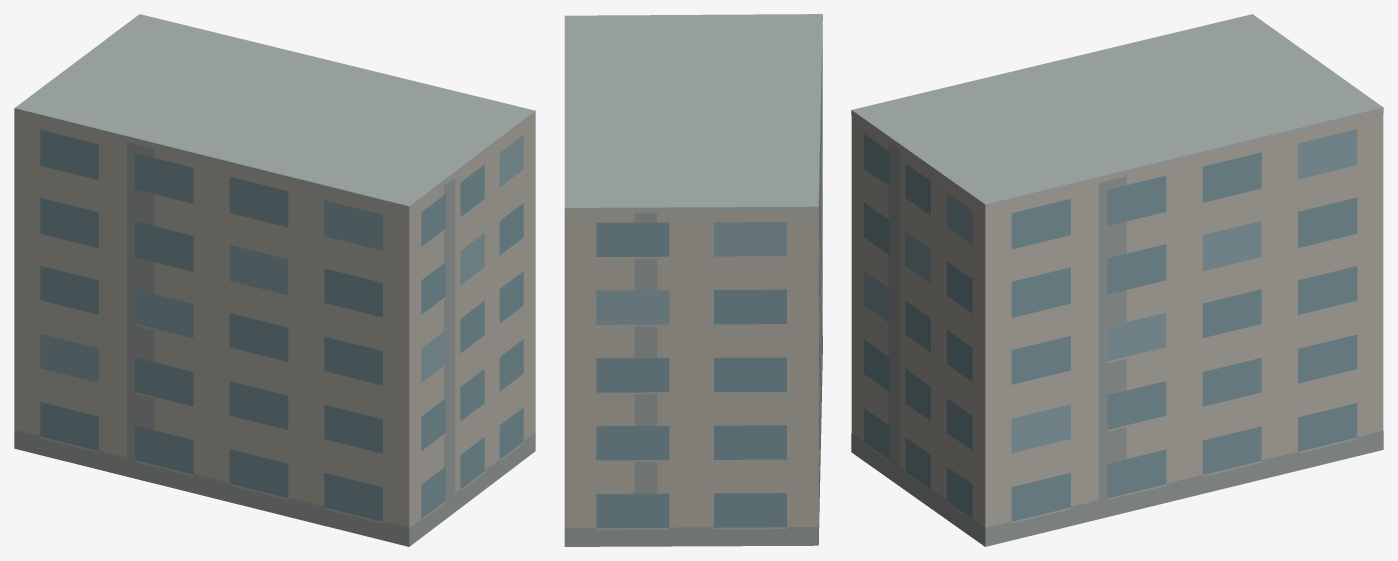
File: survey-upis-32796714.glb
The picture shows the model from 3 angles, left to right: view 1: azimuth 30°, elevation 25°; view 2: azimuth 150°, elevation 25°; view 3: azimuth 270°, elevation 25°; orthographic projection.
Visible parts, largest first — view 1: survey-upis-32796714.tmp; view 2: survey-upis-32796714.tmp; view 3: survey-upis-32796714.tmp.
Boxes of the visible parts, left/top/right/bottom form: survey-upis-32796714.tmp: left=14, top=14, right=535, bottom=546; survey-upis-32796714.tmp: left=564, top=14, right=822, bottom=546; survey-upis-32796714.tmp: left=851, top=14, right=1383, bottom=546.
Bounding box in the file's own units: 16.83 × 14.1 × 19.86.
